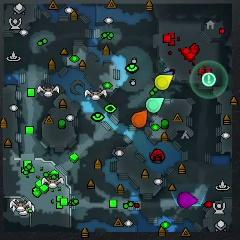Other: (202, 72, 216, 88)
p1: (162, 71, 175, 76)
p2: (146, 98, 164, 112)
p3: (178, 191, 197, 209)
p4: (155, 75, 173, 91)
p5: (131, 110, 148, 128)
